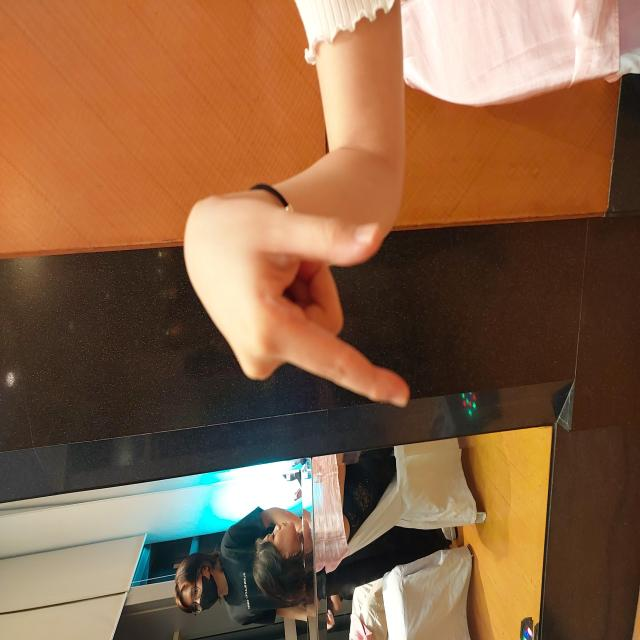Q: (231, 183, 444, 408)
